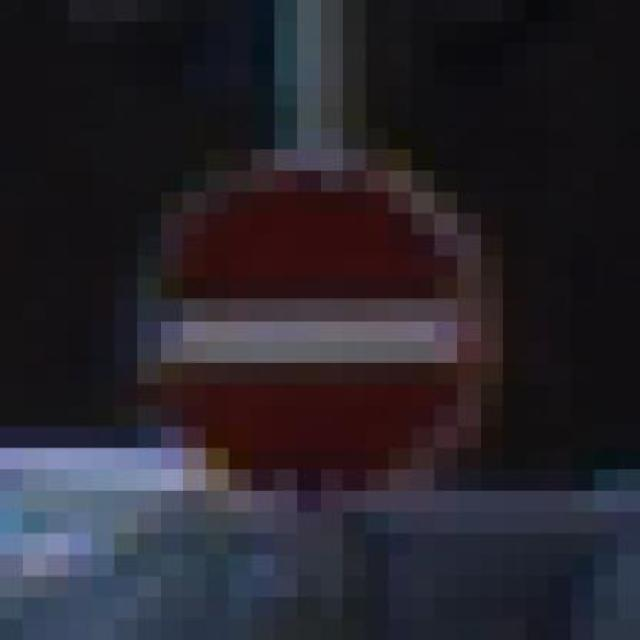No Entry: (114, 150, 526, 512)
